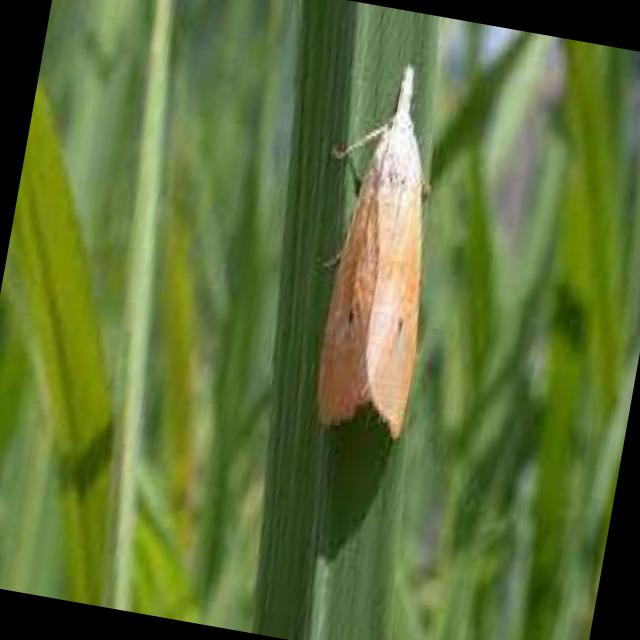stem-borer: (302, 52, 472, 446)
